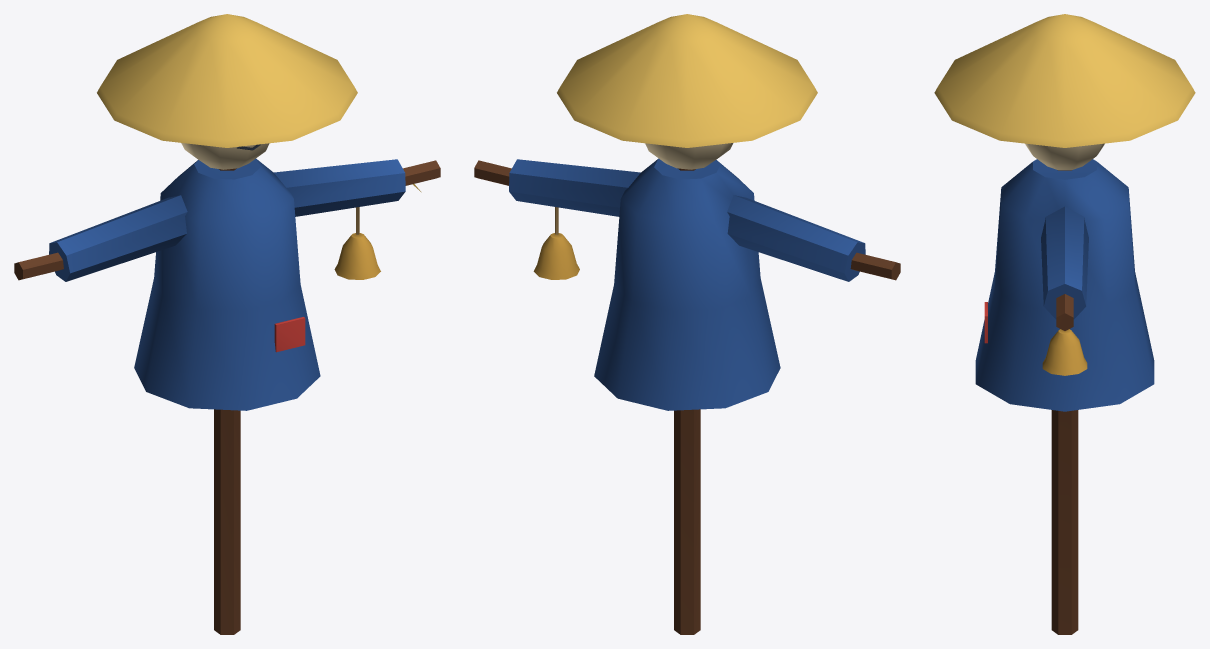
The model's file is scarecrow.glb.
3 renders of one model, left to right at view 1: azimuth 30°, elevation 25°; view 2: azimuth 150°, elevation 25°; view 3: azimuth 270°, elevation 25°, orthographic.
Parts seen in each view (by area): view 1: Scarecrow Fabric indigo, Scarecrow Straw, Scarecrow Dark wood, Bell, Scarecrow Burlap, Scarecrow Fabric red; view 2: Scarecrow Fabric indigo, Scarecrow Straw, Scarecrow Dark wood, Bell, Scarecrow Burlap; view 3: Scarecrow Fabric indigo, Scarecrow Straw, Scarecrow Dark wood, Bell, Scarecrow Burlap.
Boxes of the visible parts, box(x1,y1,x2,y2) form: Scarecrow Fabric indigo: box(49, 158, 405, 410); Scarecrow Straw: box(97, 14, 421, 192); Scarecrow Dark wood: box(14, 160, 440, 634); Bell: box(334, 207, 380, 279); Scarecrow Burlap: box(181, 143, 269, 169); Scarecrow Fabric red: box(274, 317, 305, 352); Scarecrow Fabric indigo: box(509, 158, 865, 410); Scarecrow Straw: box(557, 14, 817, 147); Scarecrow Dark wood: box(474, 160, 900, 634); Bell: box(533, 207, 579, 279); Scarecrow Burlap: box(645, 143, 733, 169); Scarecrow Fabric indigo: box(975, 159, 1154, 411); Scarecrow Straw: box(934, 14, 1195, 147); Scarecrow Dark wood: box(1051, 170, 1078, 634); Bell: box(1042, 329, 1087, 375); Scarecrow Burlap: box(1025, 143, 1104, 170).
Size of the model in its own units: 1.44 by 2.03 by 0.78.
